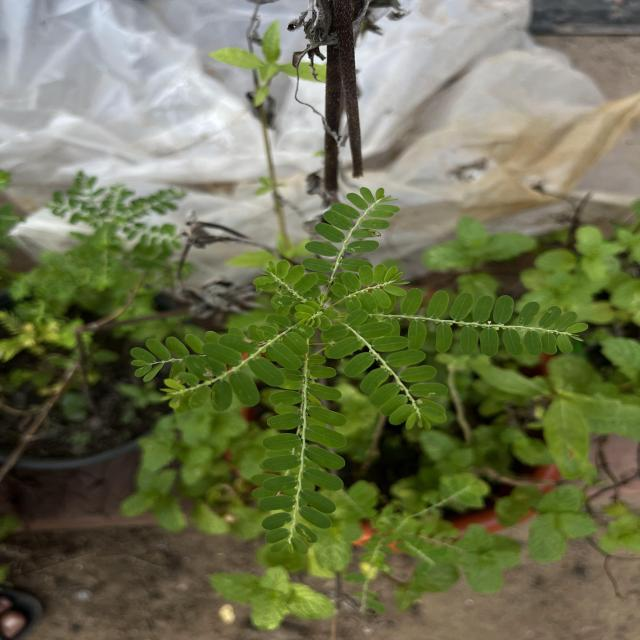Phyllanthus niruri: (256, 349, 350, 557), (321, 308, 452, 432), (382, 285, 591, 360), (164, 311, 314, 411), (298, 184, 401, 284), (255, 258, 328, 314)
